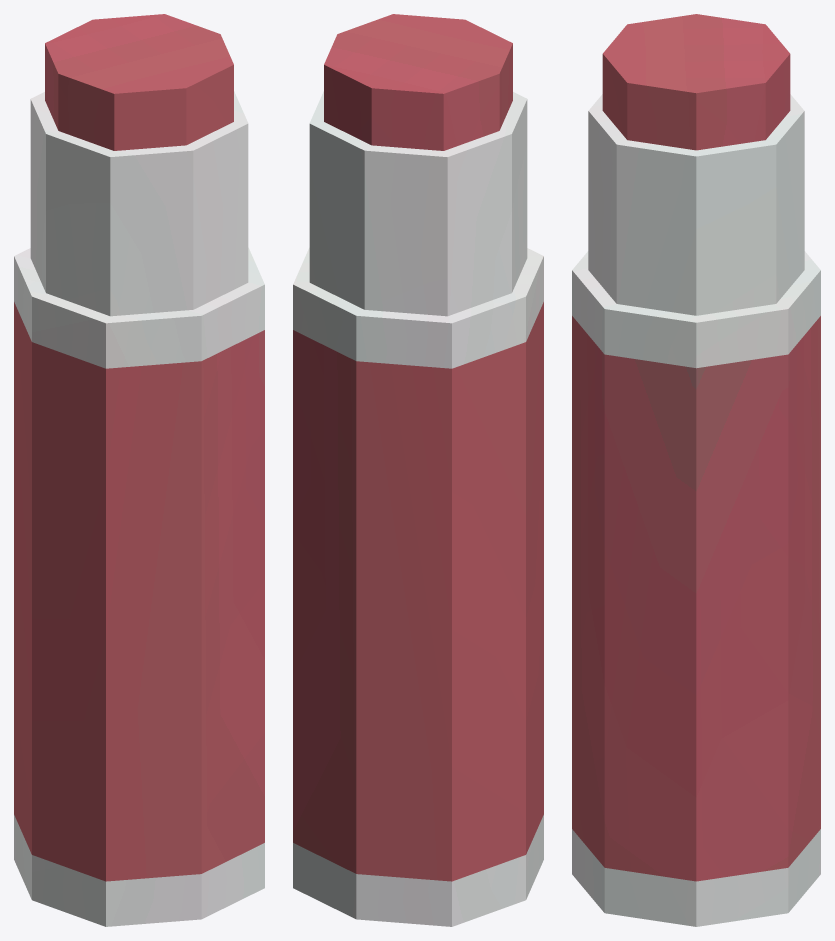
3 renders of one model, left to right at view 1: azimuth 30°, elevation 25°; view 2: azimuth 150°, elevation 25°; view 3: azimuth 270°, elevation 25°, orthographic.
Visible parts, largest first — view 1: Cube.024_Cube.042; view 2: Cube.024_Cube.042; view 3: Cube.024_Cube.042.
Part boxes in pixels (x1=…): Cube.024_Cube.042: x1=14, y1=14, x2=264, y2=926; Cube.024_Cube.042: x1=293, y1=14, x2=543, y2=926; Cube.024_Cube.042: x1=572, y1=14, x2=820, y2=926.
Bounding box in the file's own units: 0.0989 × 0.3599 × 0.0989.
1 material, 1 textured.
